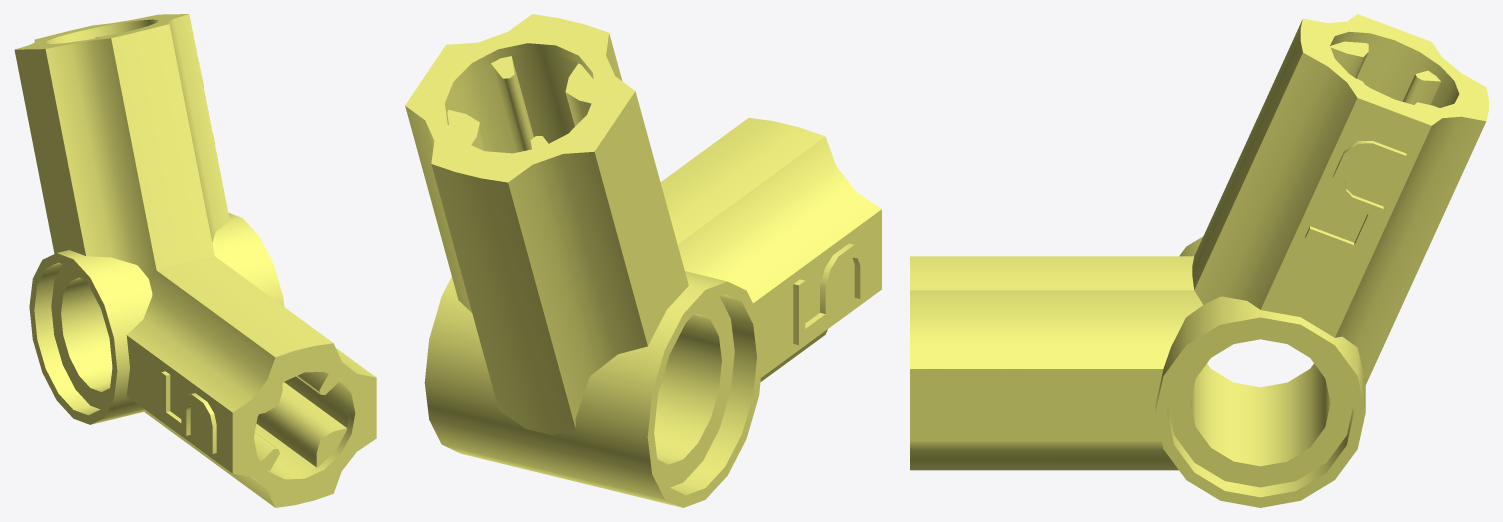
3 views of the same model, side by side, from view 1: azimuth 30°, elevation 25°; view 2: azimuth 150°, elevation 25°; view 3: azimuth 270°, elevation 25° (orthographic). The views are drawn at different scales.
Parts seen in each view (by area): view 1: 32015.dat; view 2: 32015.dat; view 3: 32015.dat.
Part boxes in pixels (box(x1,y1,x2,y2)): 32015.dat: box(14, 14, 376, 507); 32015.dat: box(405, 14, 881, 507); 32015.dat: box(910, 14, 1488, 507).
Size of the model in its own units: 0.008 by 0.016 by 0.0198.
